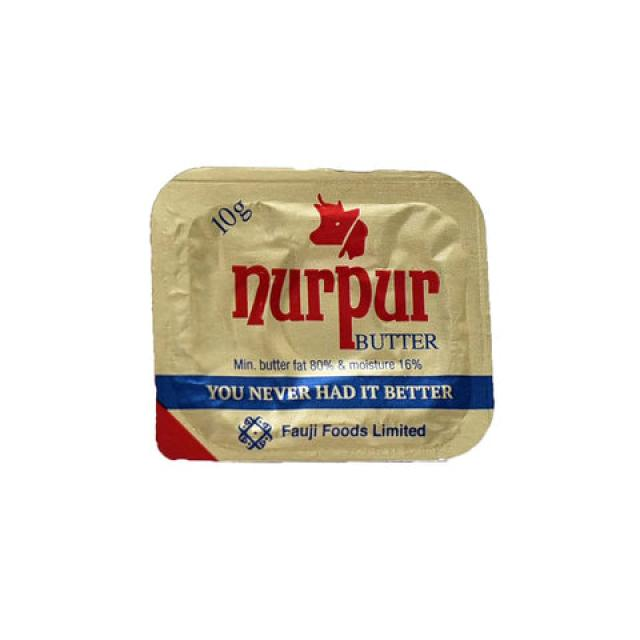butter: (149, 165, 495, 463)
